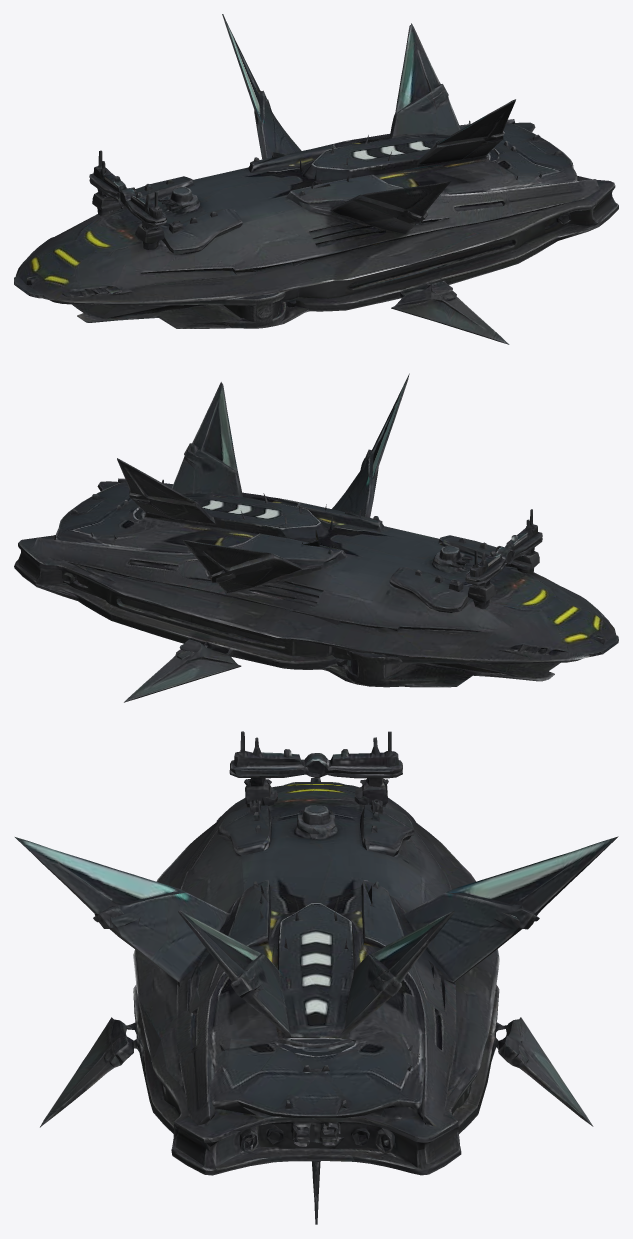
Rendered from enemy-iris-capital.glb.
3 renders of one model, top to bottom at view 1: azimuth 30°, elevation 25°; view 2: azimuth 150°, elevation 25°; view 3: azimuth 270°, elevation 25°, orthographic. The views are drawn at different scales.
Size of the model in its own units: 1.9 by 0.6449 by 1.35.
1 material, 1 textured.
